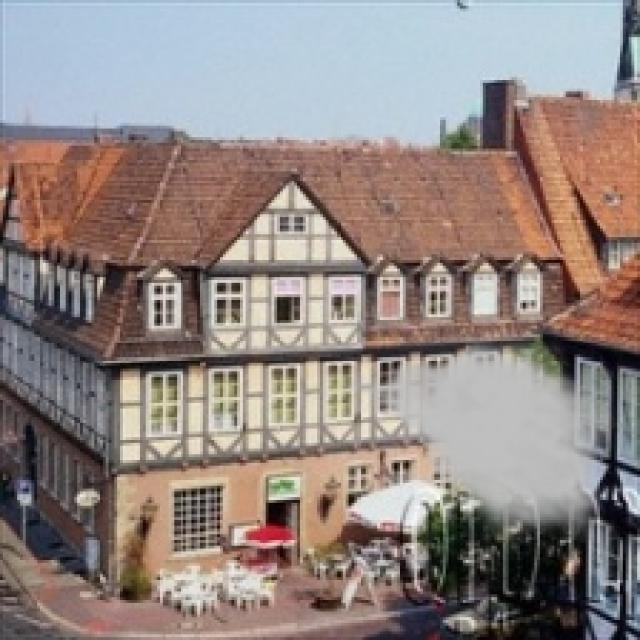Smoke: (334, 334, 617, 546)
